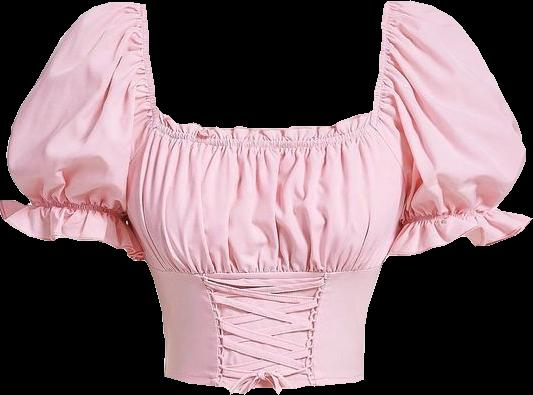Bodice: (123, 113, 406, 394)
Neckline: (164, 113, 368, 133), (146, 264, 381, 277)
Sleeve: (0, 2, 164, 261), (367, 1, 532, 255)
Sleeveline: (126, 5, 166, 163), (367, 3, 404, 170), (402, 204, 501, 224), (27, 200, 128, 213)
Waistline: (164, 373, 365, 394)
